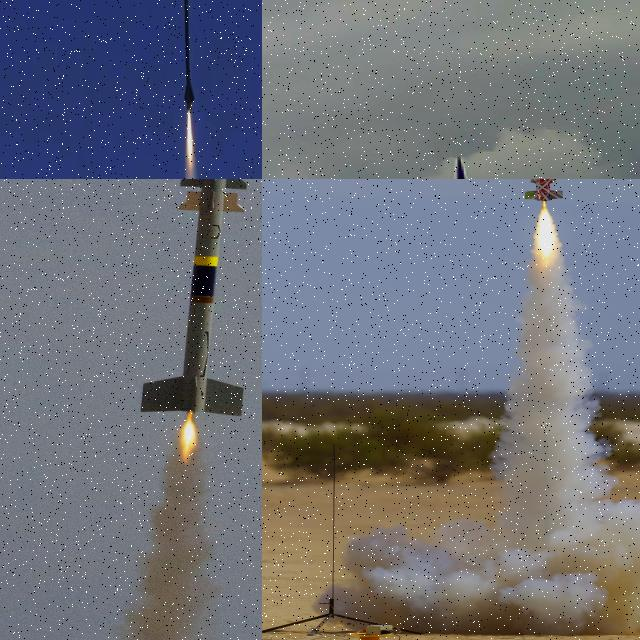Rocket: (139, 179, 246, 419), (182, 0, 194, 116), (523, 179, 563, 202)
